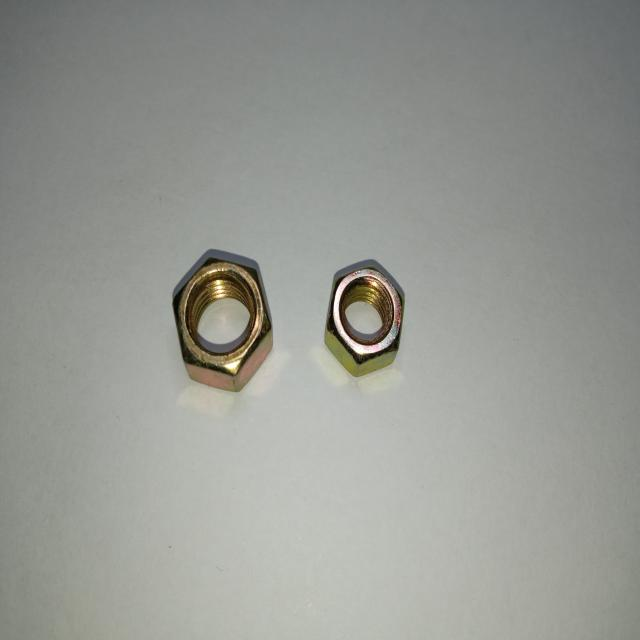m10: (172, 254, 277, 387)
m8: (324, 262, 402, 369)
